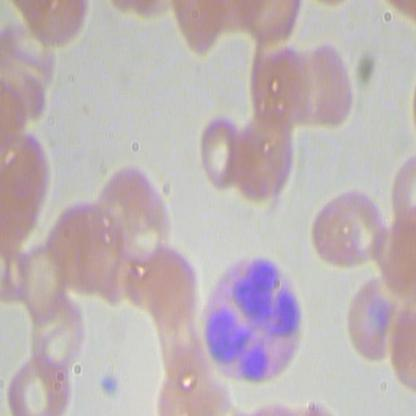Platelets: (99, 368, 120, 397)
RBC: (94, 159, 179, 279), (307, 188, 389, 271), (234, 109, 301, 205), (135, 246, 203, 324), (245, 40, 307, 123), (6, 352, 74, 415), (344, 276, 391, 360), (193, 114, 243, 192), (24, 242, 68, 327), (309, 40, 353, 125)
WBC: (192, 253, 318, 387)
